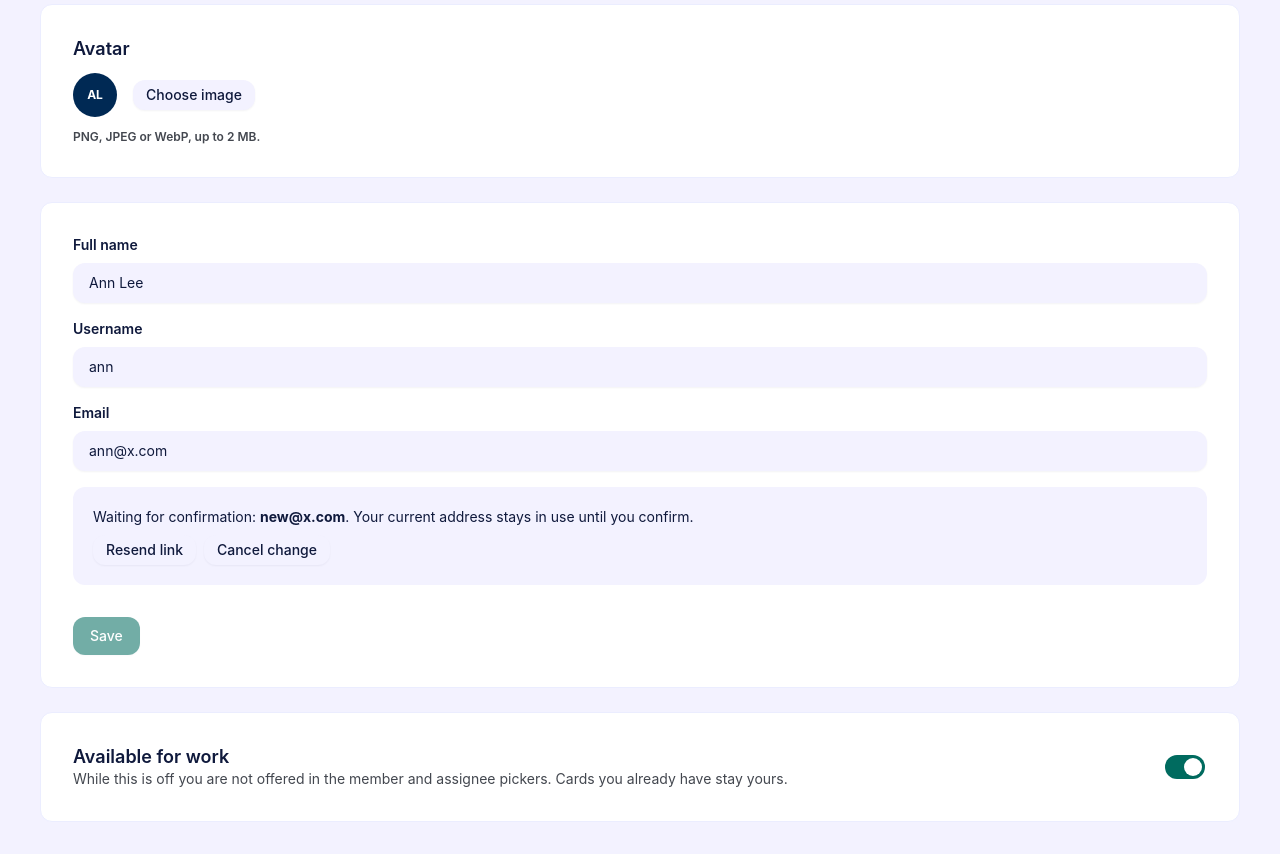
Scenario: About tab (PRF-02 to PRF-04, PRF-10) › cancelling a waiting change asks first and then clears it
(page scrolled)
Click the button "Cancel change" at (267, 550), box top-left (204, 535), bottom-right (330, 565)
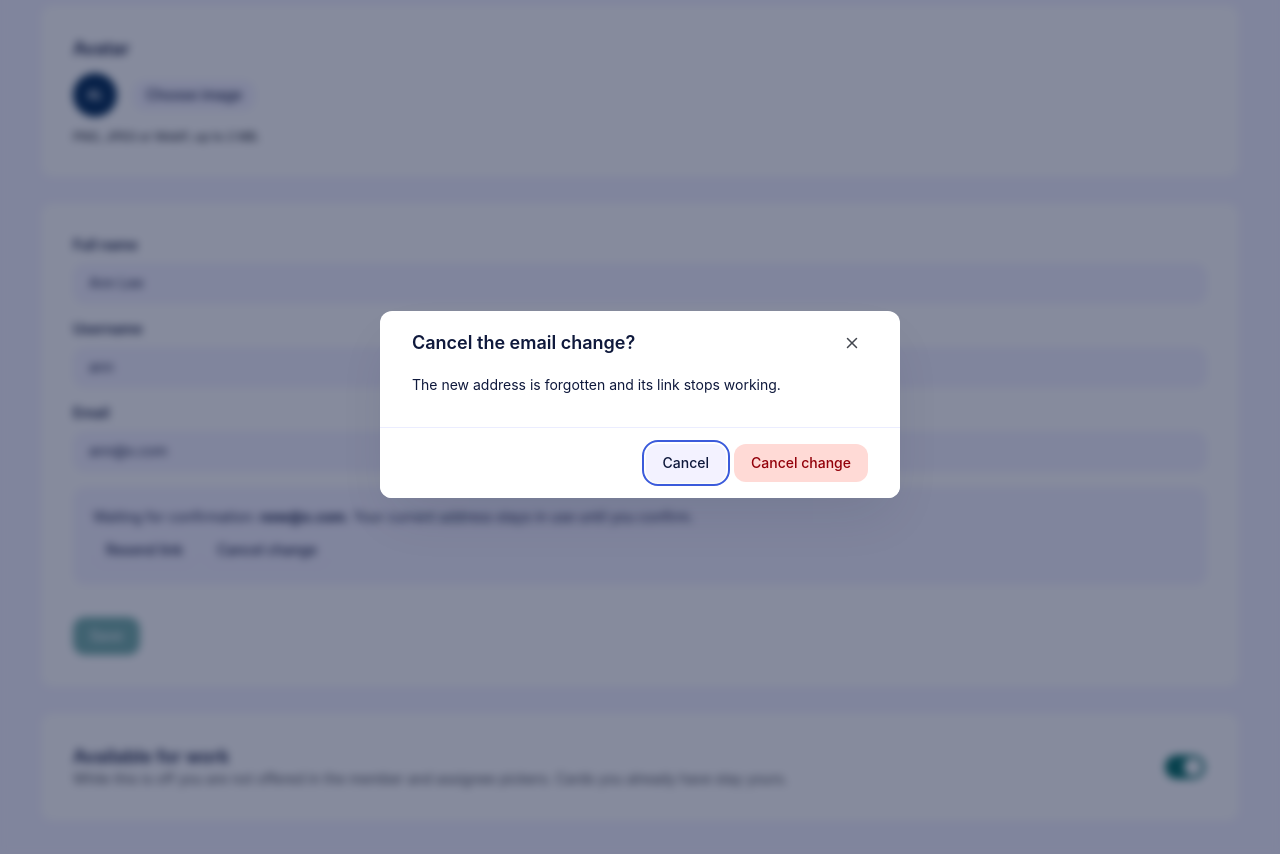
Click the button "Cancel change" at (801, 462), box top-left (734, 444), bottom-right (868, 482)
(page scrolled)
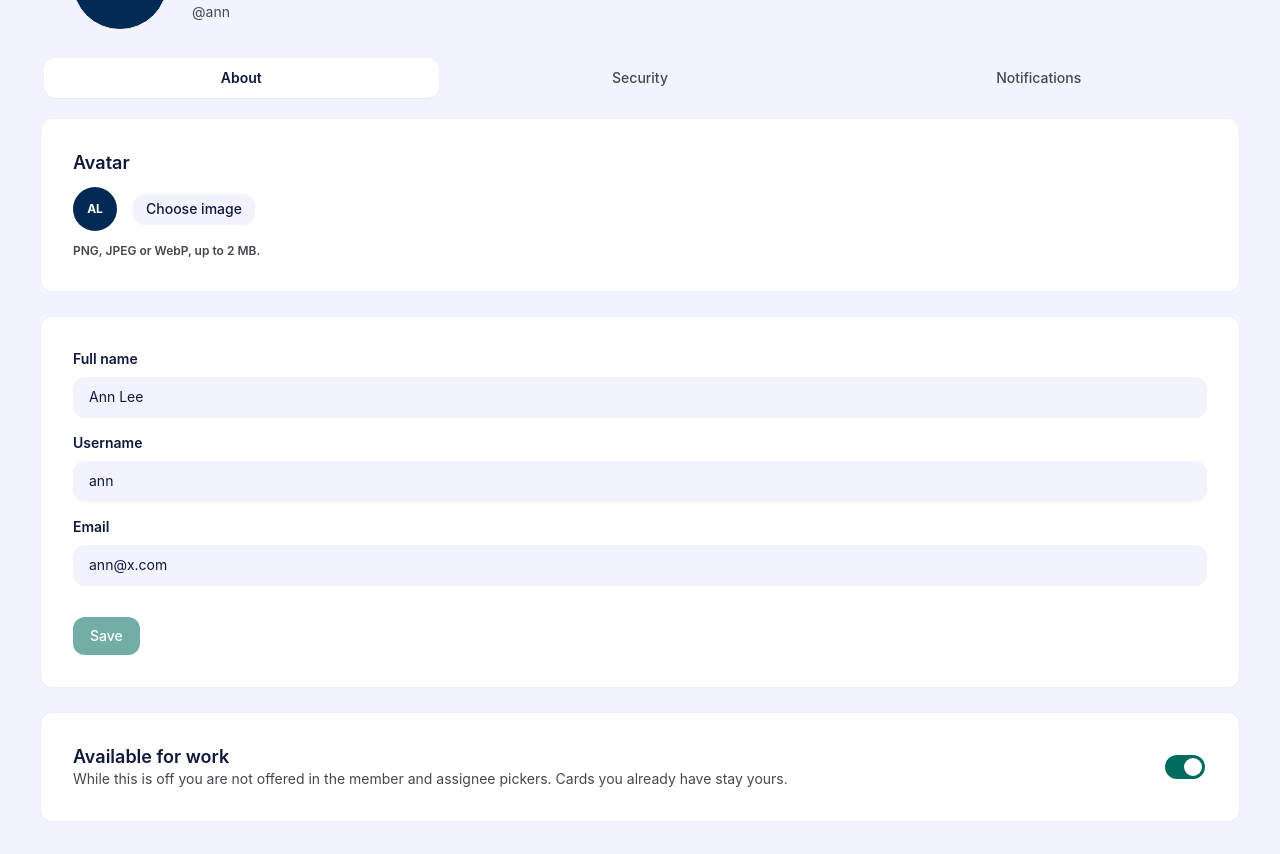
Result: the text "Waiting for confirmation" is gone
